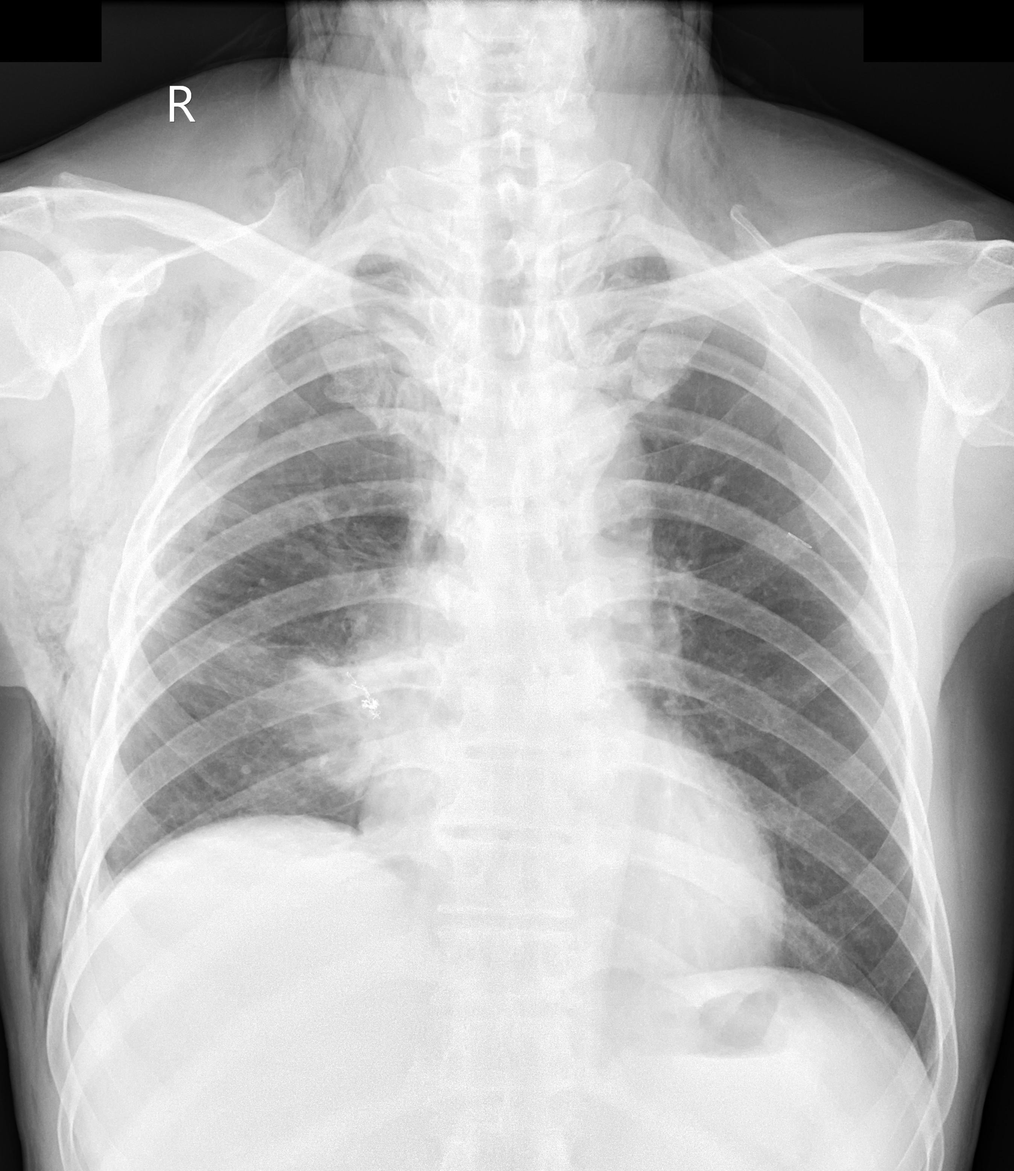Aortic enlargement: (520, 378, 650, 528)
